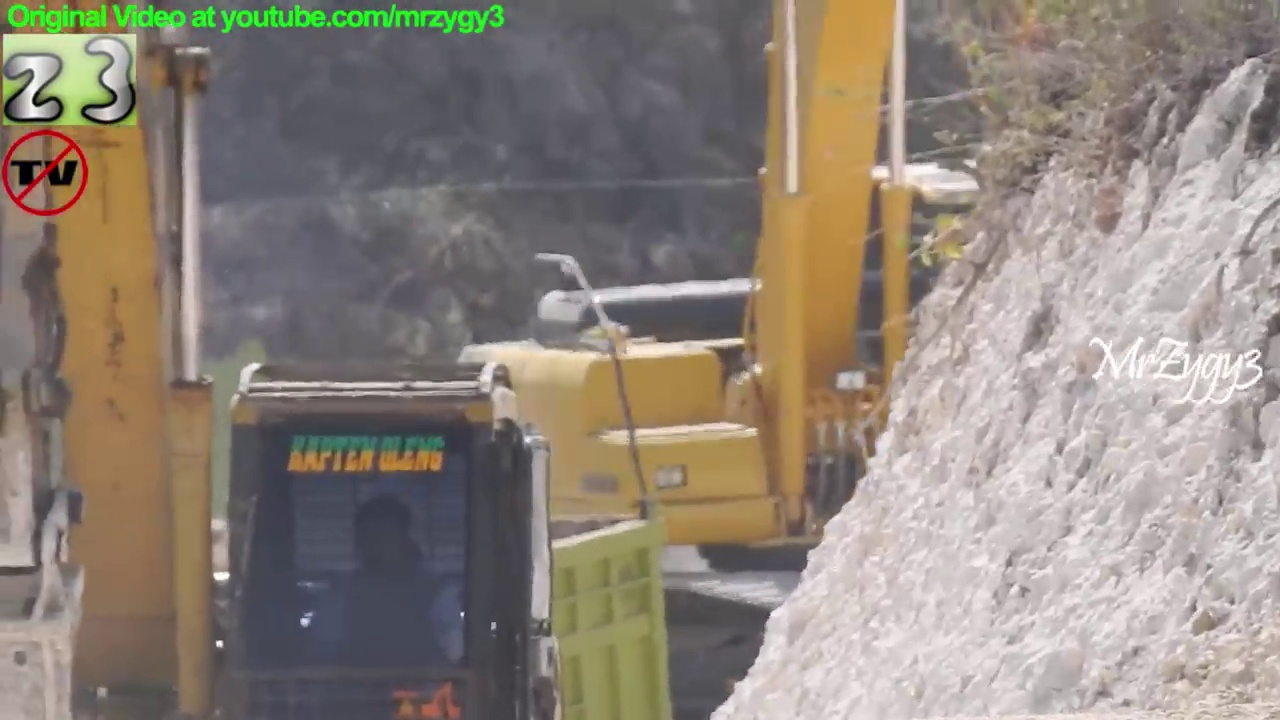excavator: (437, 1, 1081, 720), (1, 1, 586, 720)
truck: (6, 492, 683, 720)
